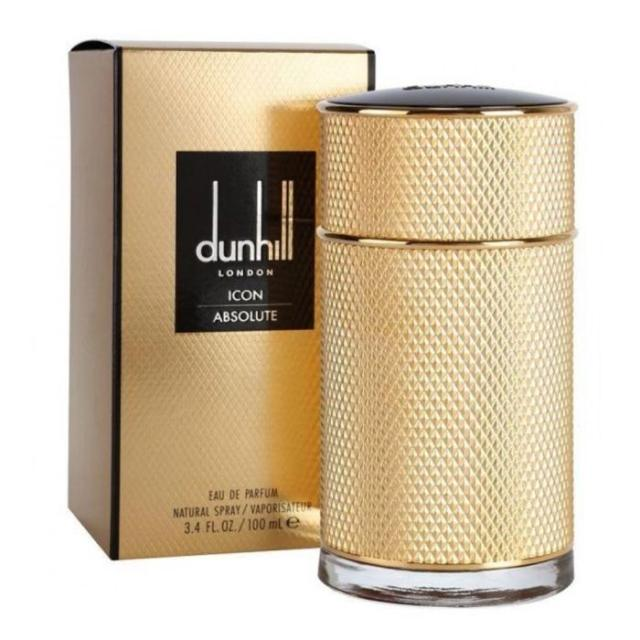dunhill: (66, 41, 386, 552)
